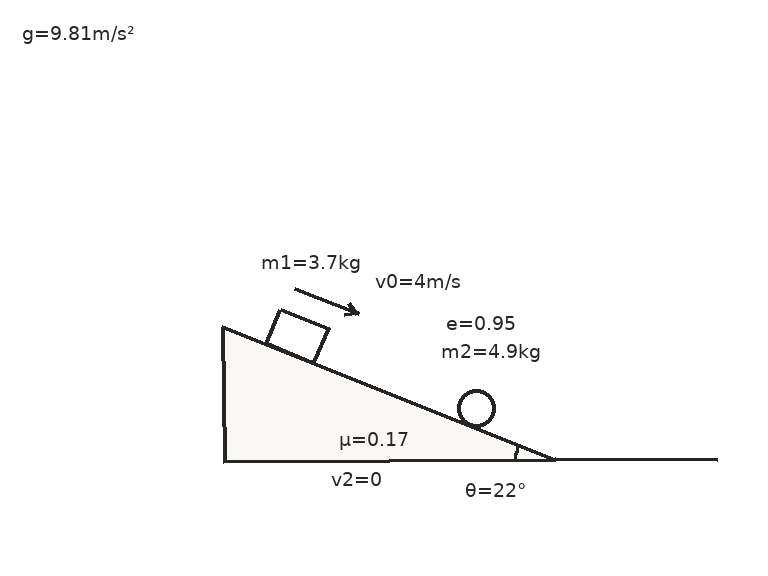ball: (455, 387, 497, 429)
block: (264, 307, 329, 364)
ramp: (221, 324, 557, 462)
